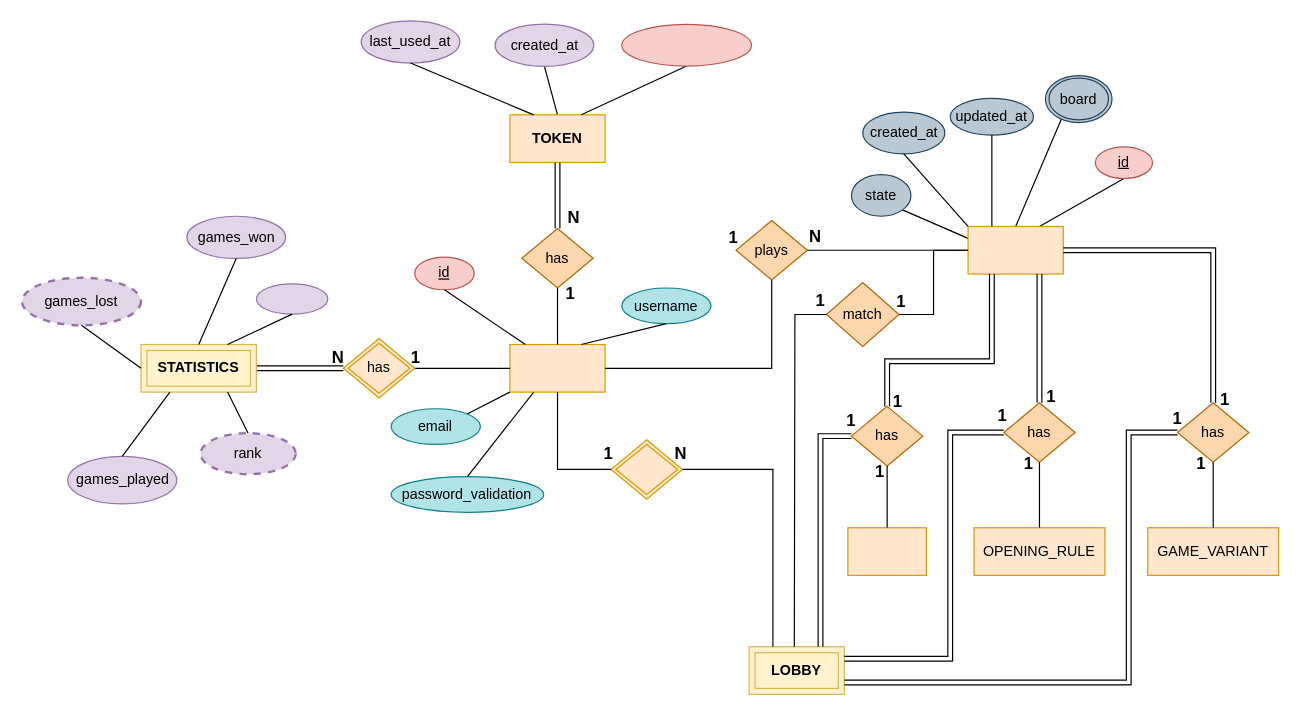
Image size: 1299x715. Some labels were removed from this diagram. The centre of each missing label's shape, as x and y in pixels:
"GAME" belongs at (1015,249).
"points" belongs at (291,298).
"SIZE" belongs at (886,551).
"token_validation" belongs at (686,44).
"USER" belongs at (557,367).
"waits" belongs at (646,469).
